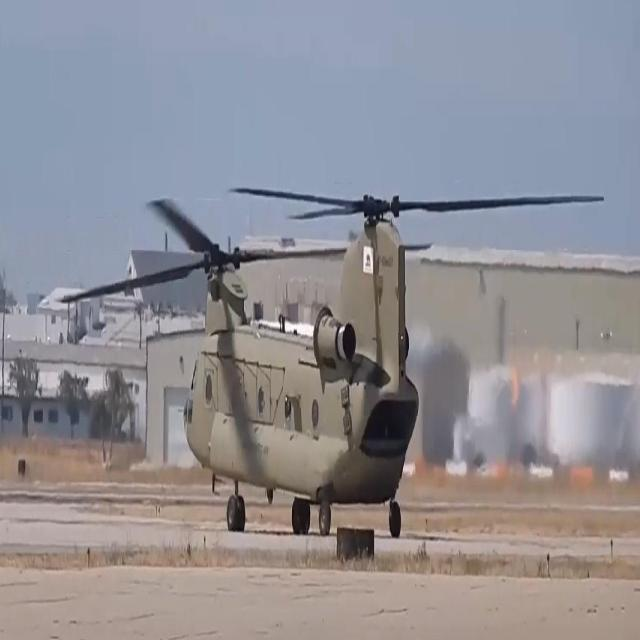Helicopter: (138, 165, 447, 538)
